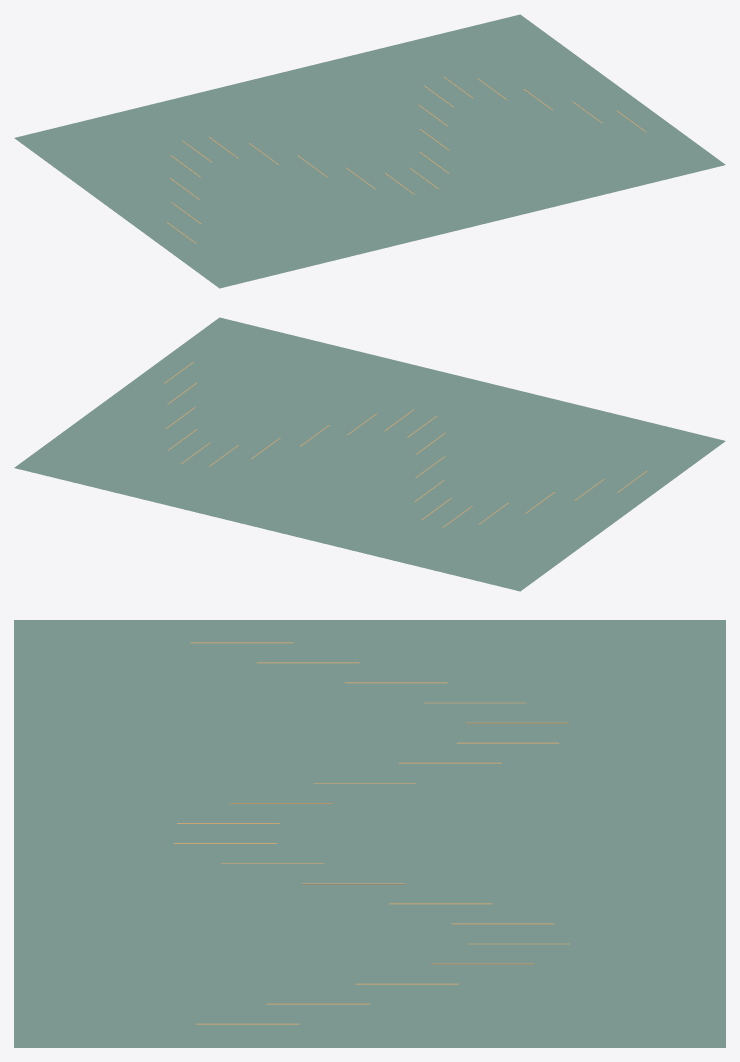
File: 251_L118_L14_LayerReference.glb
3 renders of one model, top to bottom at view 1: azimuth 30°, elevation 25°; view 2: azimuth 150°, elevation 25°; view 3: azimuth 270°, elevation 25°, orthographic. The views are drawn at different scales.
Parts seen in each view (by area): view 1: 0000__PSMAT__dielectric; view 2: 0000__PSMAT__dielectric; view 3: 0000__PSMAT__dielectric.
Part boxes in pixels (x1,y1,x2,y2): 0000__PSMAT__dielectric: (14,14,725,288); 0000__PSMAT__dielectric: (14,317,725,591); 0000__PSMAT__dielectric: (14,620,725,1047).
Bounding box in the file's own units: 0.472 × 0.000499 × 0.332.
